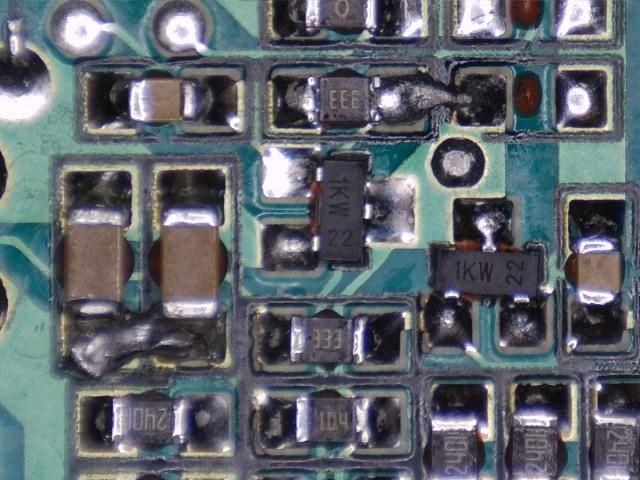pcb_defect: (62, 299, 227, 378), (369, 73, 507, 127)
